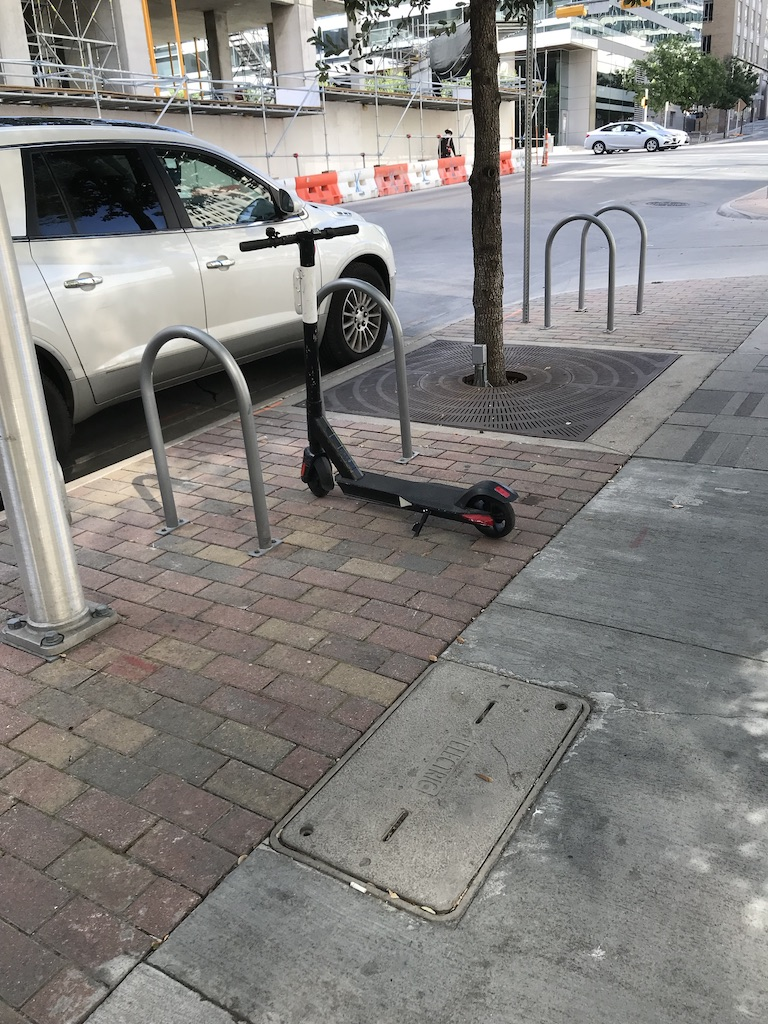scooter: (240, 224, 518, 540)
